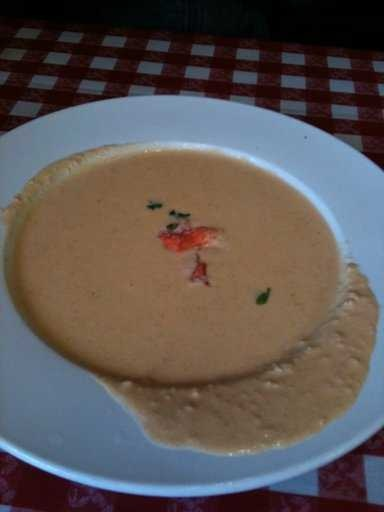soup: (8, 131, 359, 442)
